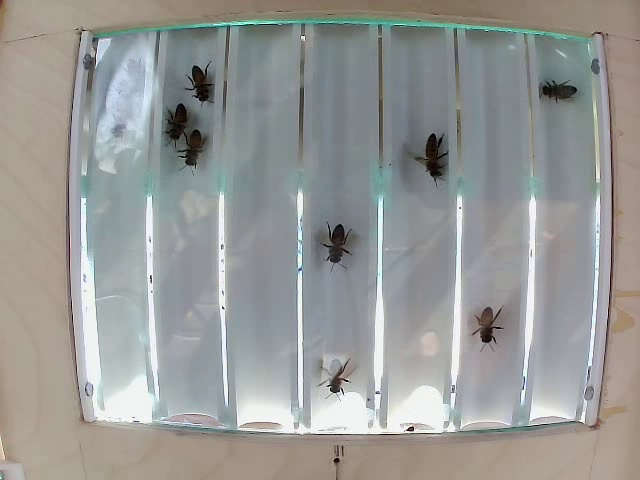bee: (536, 84, 591, 117), (317, 348, 354, 396), (472, 300, 501, 357), (315, 221, 344, 272), (417, 138, 443, 191), (173, 104, 201, 151), (184, 135, 207, 175), (198, 70, 217, 102)
